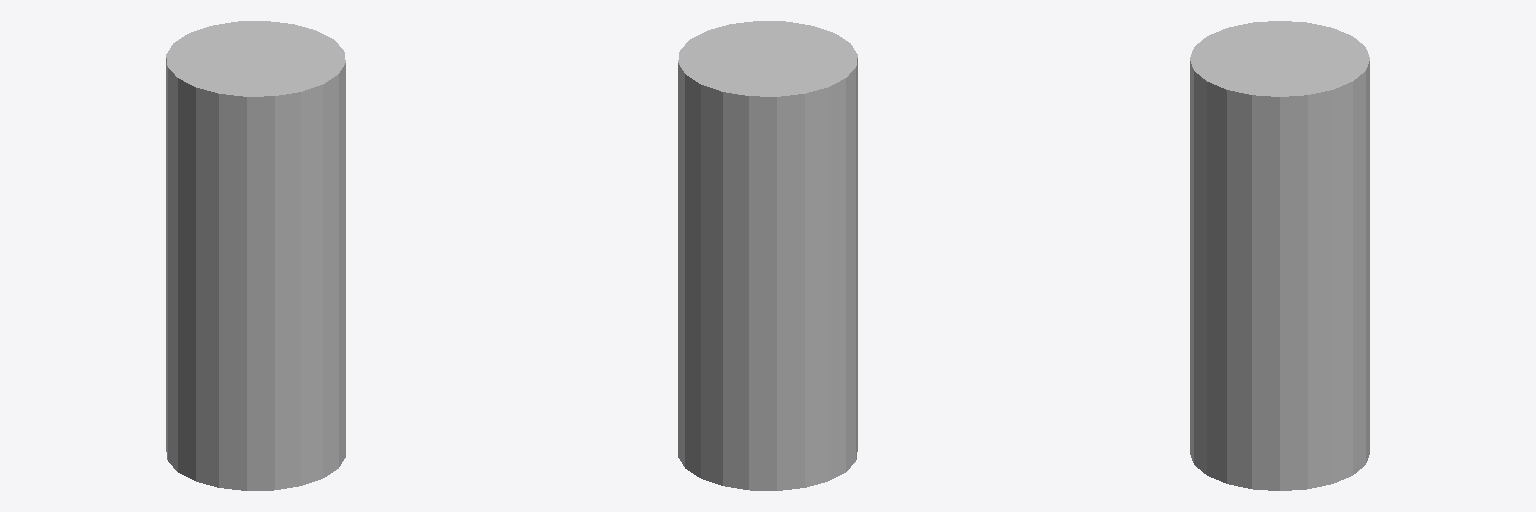
Rendered from block 2 final.obj.
The picture shows the model from 3 angles: view 1: azimuth 30°, elevation 25°; view 2: azimuth 150°, elevation 25°; view 3: azimuth 270°, elevation 25°; orthographic projection.
Parts seen in each view (by area): view 1: pCylinder1; view 2: pCylinder1; view 3: pCylinder1.
Part boxes in pixels (x1,y1,x2,y2): pCylinder1: (166,21,345,490); pCylinder1: (678,21,857,490); pCylinder1: (1190,21,1369,490).
Size of the model in its own units: 7.67 by 18.45 by 7.67.